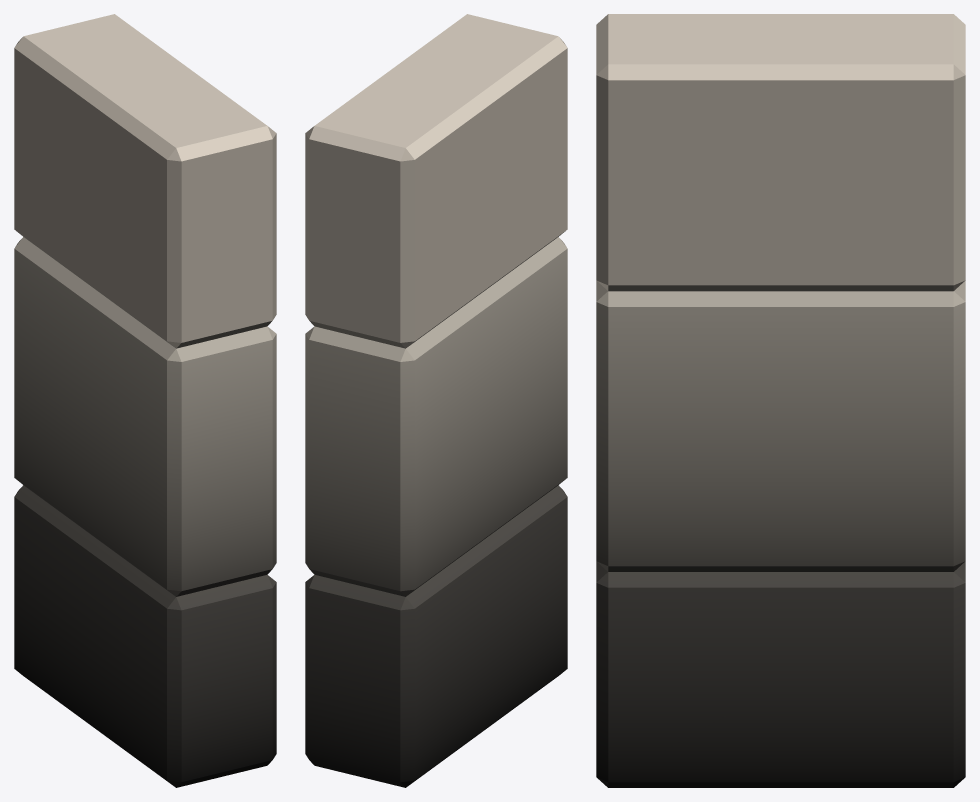
File: SM_VKI_Post_Dungeon_Mid_Cut.fbx
3 renders of one model, left to right at view 1: azimuth 30°, elevation 25°; view 2: azimuth 150°, elevation 25°; view 3: azimuth 270°, elevation 25°, orthographic. The views are drawn at different scales.
Visible parts, largest first — view 1: SM_VKI_Post_Dungeon_Mid_Cut.001; view 2: SM_VKI_Post_Dungeon_Mid_Cut.001; view 3: SM_VKI_Post_Dungeon_Mid_Cut.001.
Part boxes in pixels (<box>): SM_VKI_Post_Dungeon_Mid_Cut.001: <box>14,14,276,787</box>; SM_VKI_Post_Dungeon_Mid_Cut.001: <box>305,14,567,787</box>; SM_VKI_Post_Dungeon_Mid_Cut.001: <box>596,14,965,787</box>.
Bounding box in the file's own units: 0.24 × 1.34 × 0.62.
